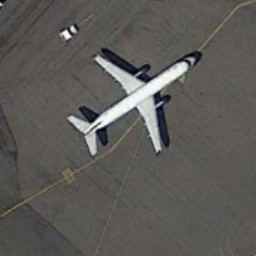Airplane: (58, 45, 208, 163)
